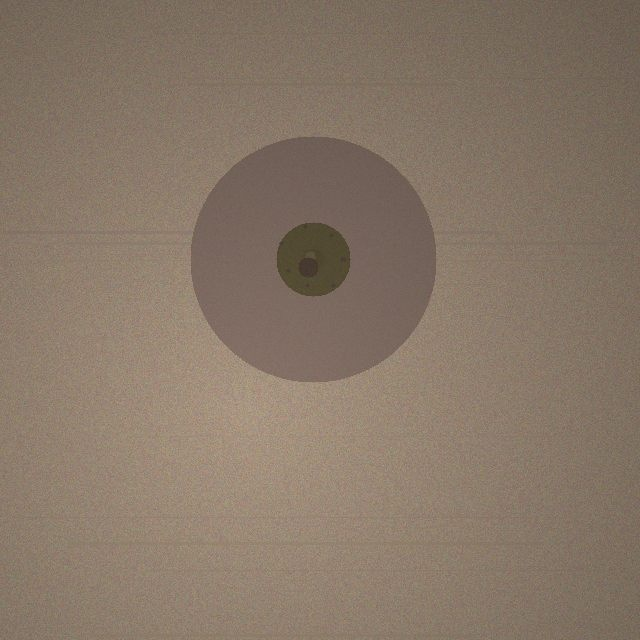cold_weld: (190, 136, 436, 382)
